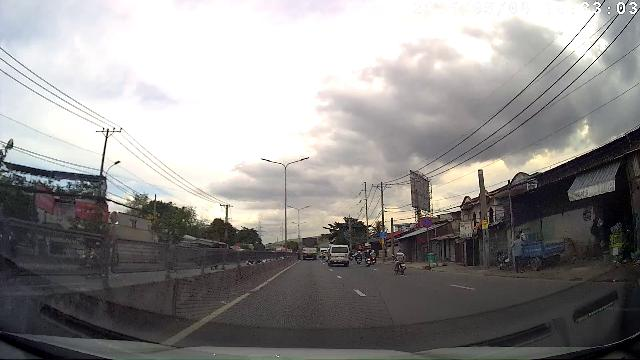130-cam-dung-va-do-xe: (422, 217, 432, 228)
